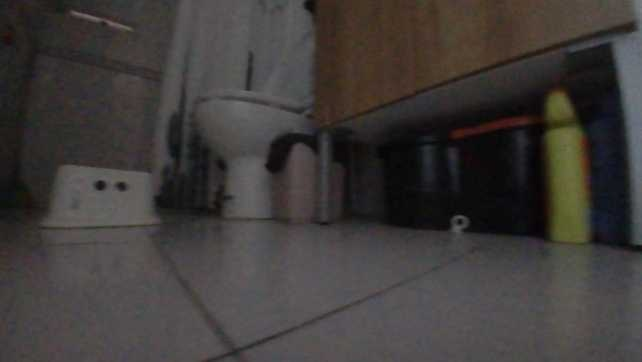toilet: (190, 25, 318, 218)
trash_can: (273, 125, 345, 224)
